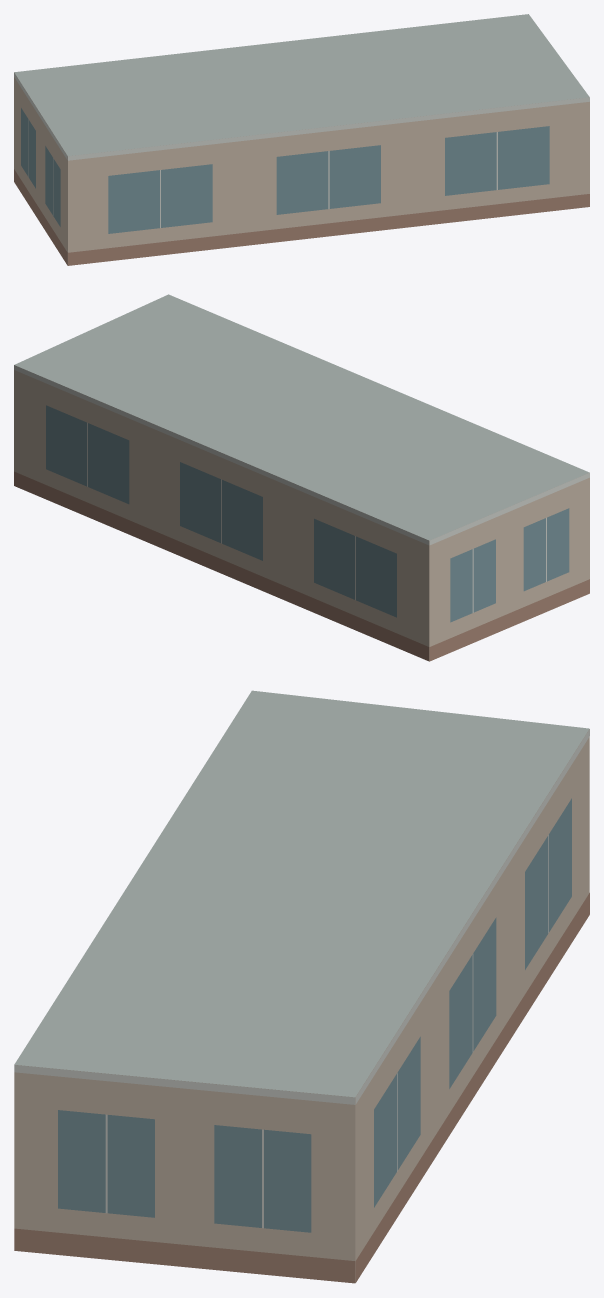
The model's file is survey-upis-32710357.glb.
3 renders of one model, top to bottom at view 1: azimuth 30°, elevation 25°; view 2: azimuth 150°, elevation 25°; view 3: azimuth 270°, elevation 25°, orthographic. The views are drawn at different scales.
Parts seen in each view (by area): view 1: survey-upis-32710357.tmp; view 2: survey-upis-32710357.tmp; view 3: survey-upis-32710357.tmp.
Boxes of the visible parts, left/top/right/bottom form: survey-upis-32710357.tmp: left=14, top=14, right=589, bottom=265; survey-upis-32710357.tmp: left=14, top=294, right=589, bottom=661; survey-upis-32710357.tmp: left=14, top=690, right=589, bottom=1283.
Size of the model in its own units: 23 by 4.9 by 13.75.
